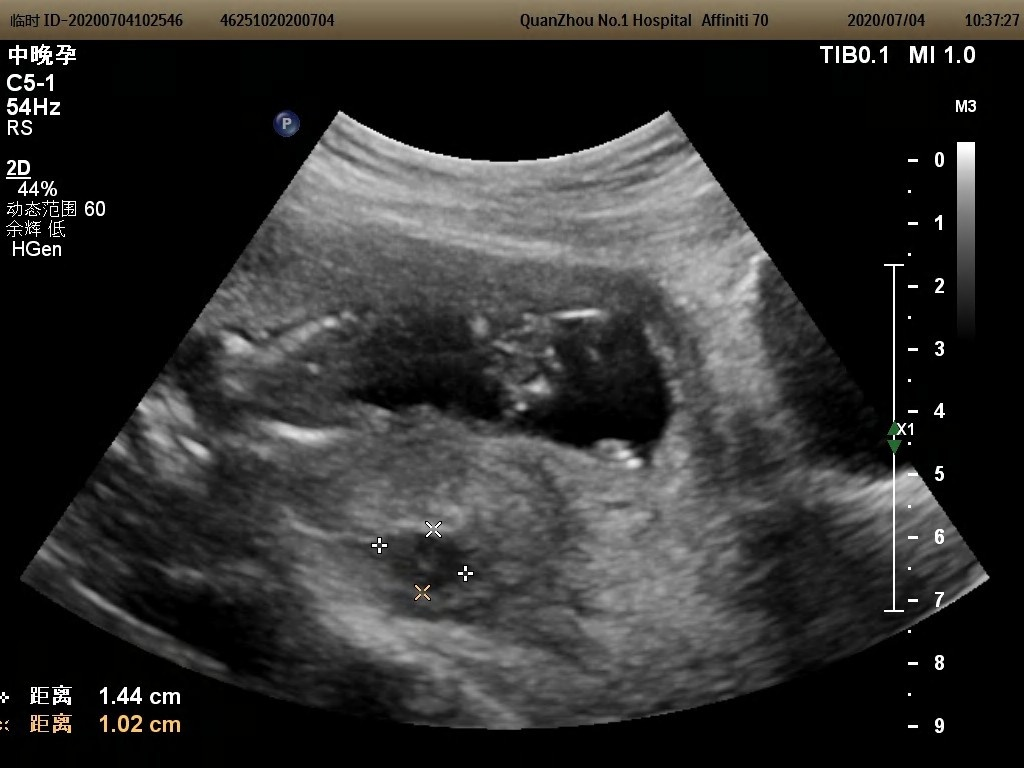肌瘤: (380, 529, 465, 592)
